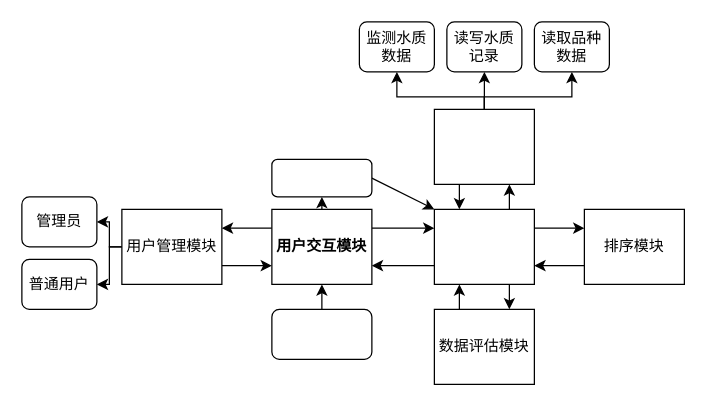
The diagram is 706 pixels wide and 406 high, and some of its shapes have lost their labels. The centre of each missing label's shape, as x and y in pixels:
"主程序" goes at point 321,333.
"响应CRUD" goes at point 321,177.
"数据管理模块" goes at point 483,246.
"文件I/O模块" goes at point 483,146.
